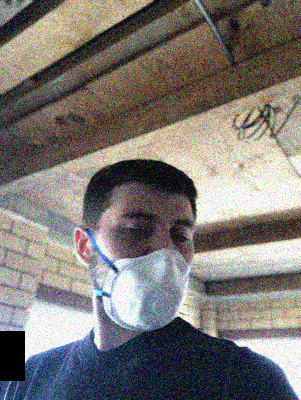with_mask: (98, 204, 195, 329)
